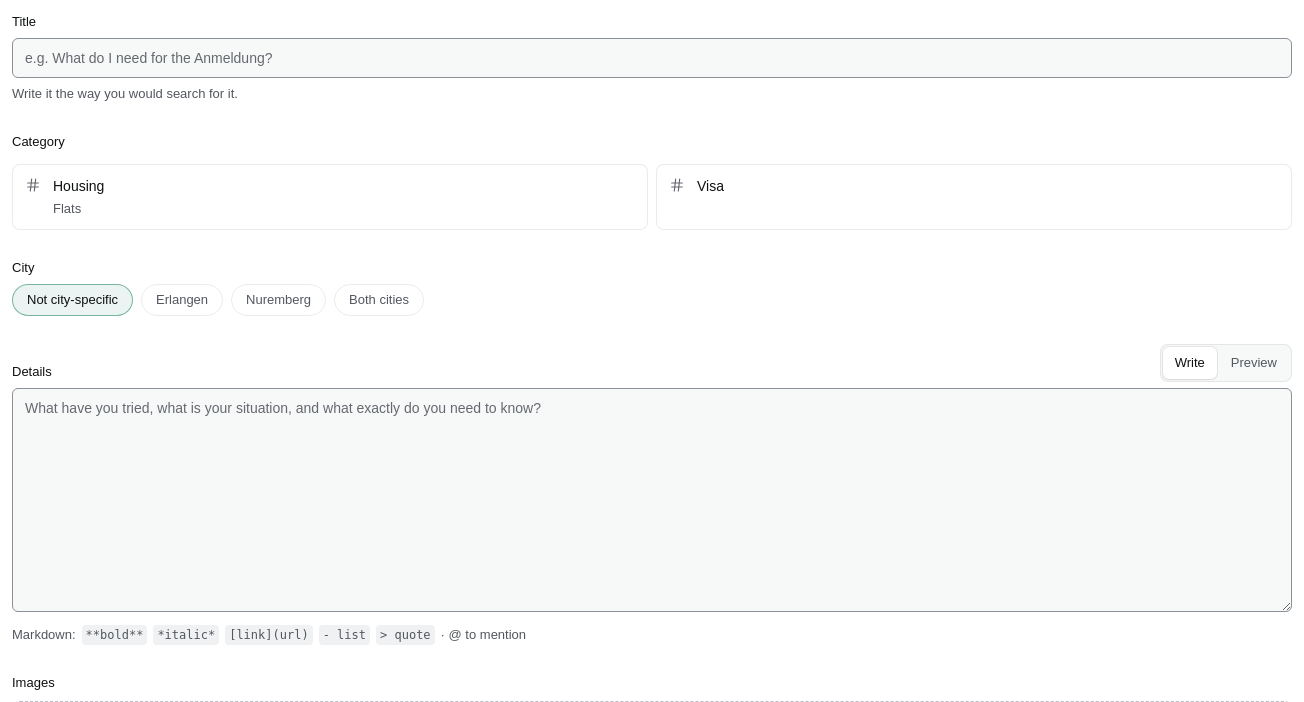
Test: ThreadForm images › keeps a plain text paste in the body
This screenshot has width=1304, height=702.
Click the dropdown labelled "Details": x=652, y=500 [12,388,1292,612]
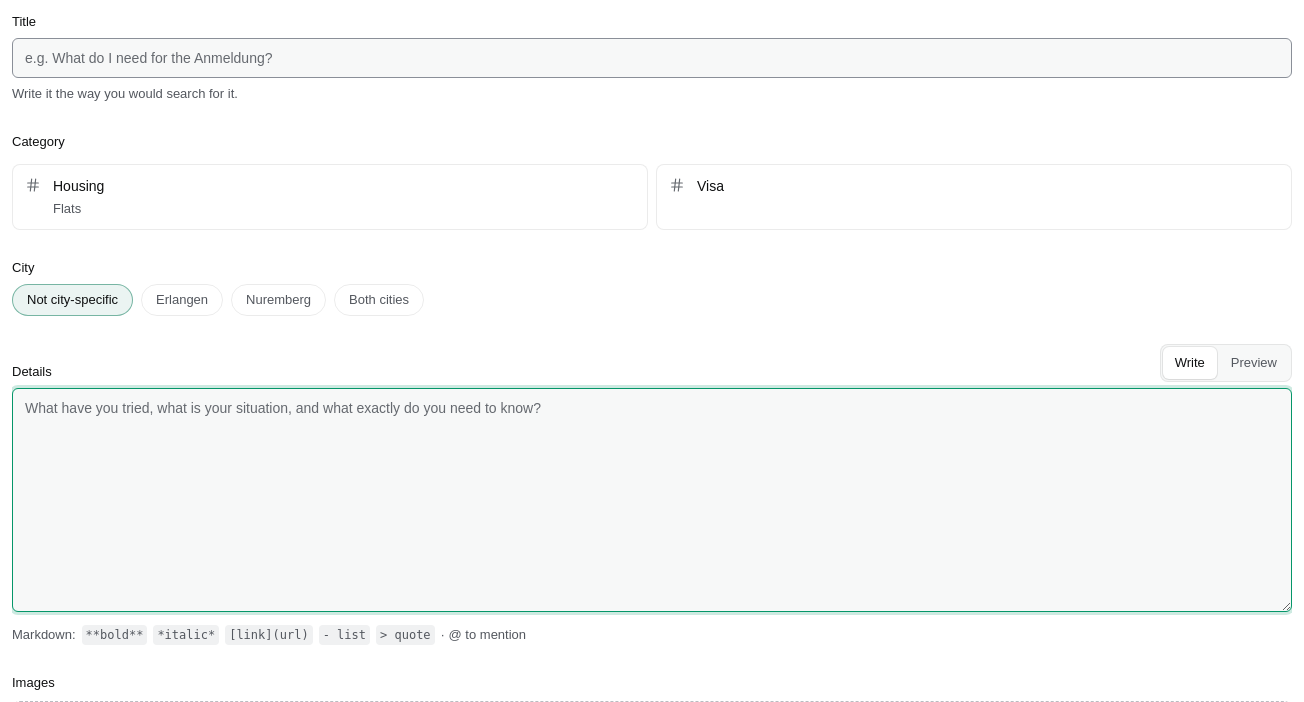
Type keys "Termin at the Ausländerbehörde"
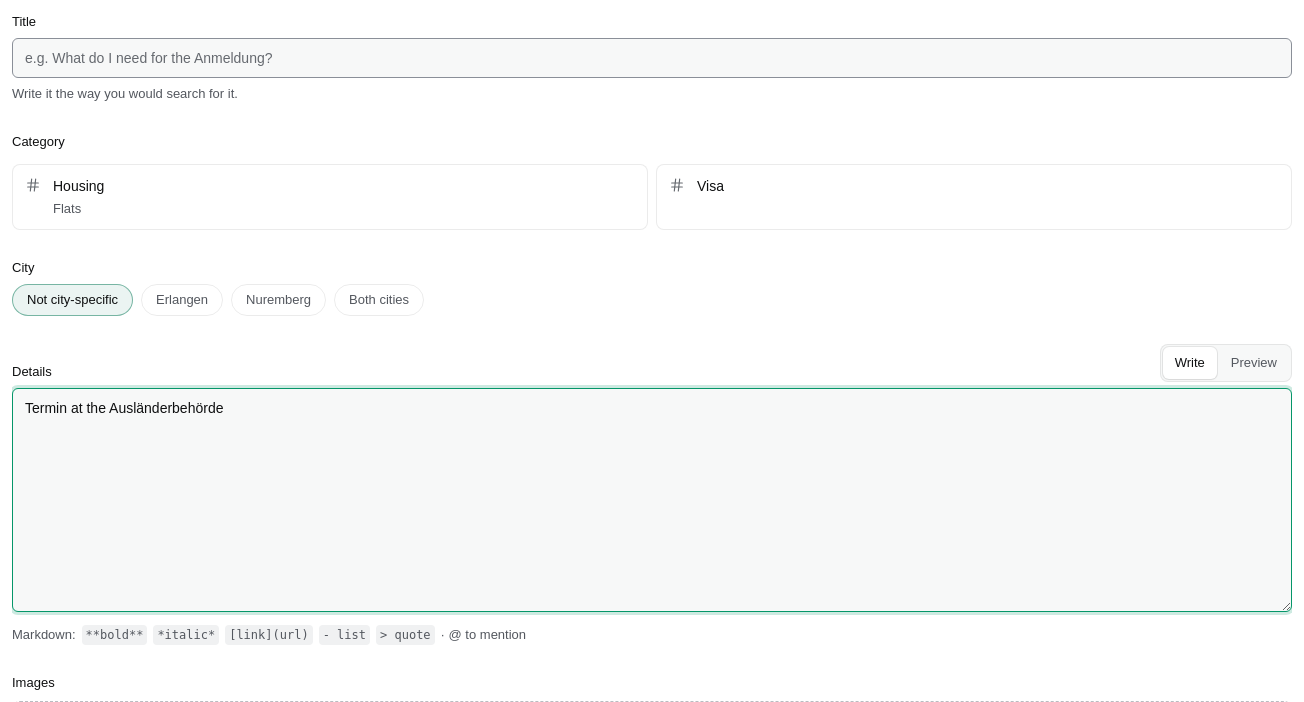
Expected: the dropdown labelled "Details" holds "Termin at the Ausländerbehörde", [12,388,1292,612]
